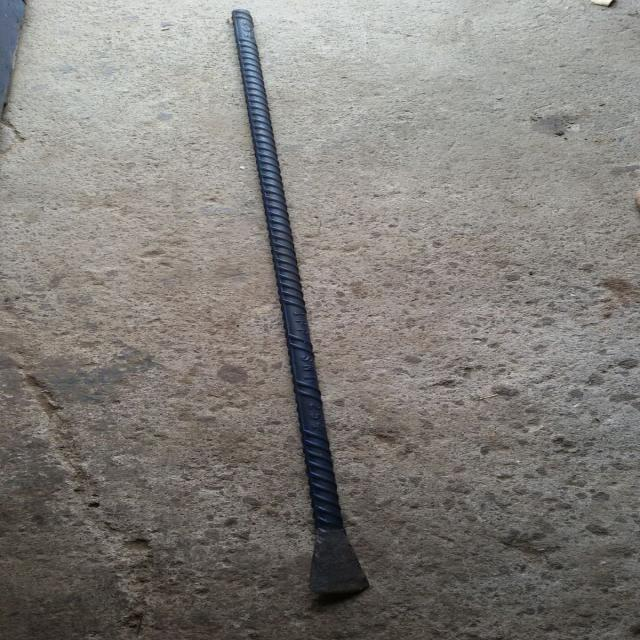Linggis: (188, 11, 404, 608)
